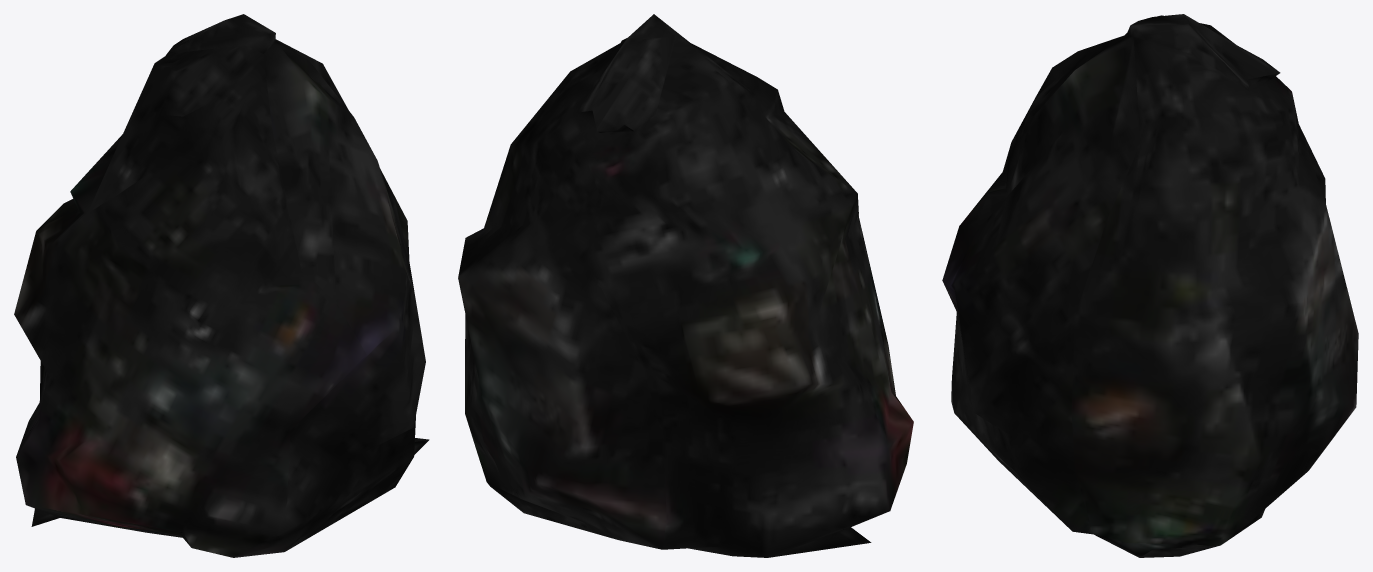
File: trashbag_lod1.glb
3 views of the same model, side by side, from view 1: azimuth 30°, elevation 25°; view 2: azimuth 150°, elevation 25°; view 3: azimuth 270°, elevation 25° (orthographic). The views are drawn at different scales.
Visible parts, largest first — view 1: trashbag; view 2: trashbag; view 3: trashbag.
Boxes of the visible parts, x1=… form: trashbag: x1=14, y1=14, x2=429, y2=557; trashbag: x1=458, y1=14, x2=913, y2=557; trashbag: x1=942, y1=14, x2=1358, y2=557.
Bounding box in the file's own units: 0.5187 × 0.5684 × 0.4629.
Materials: 1 (1 with a texture image).
